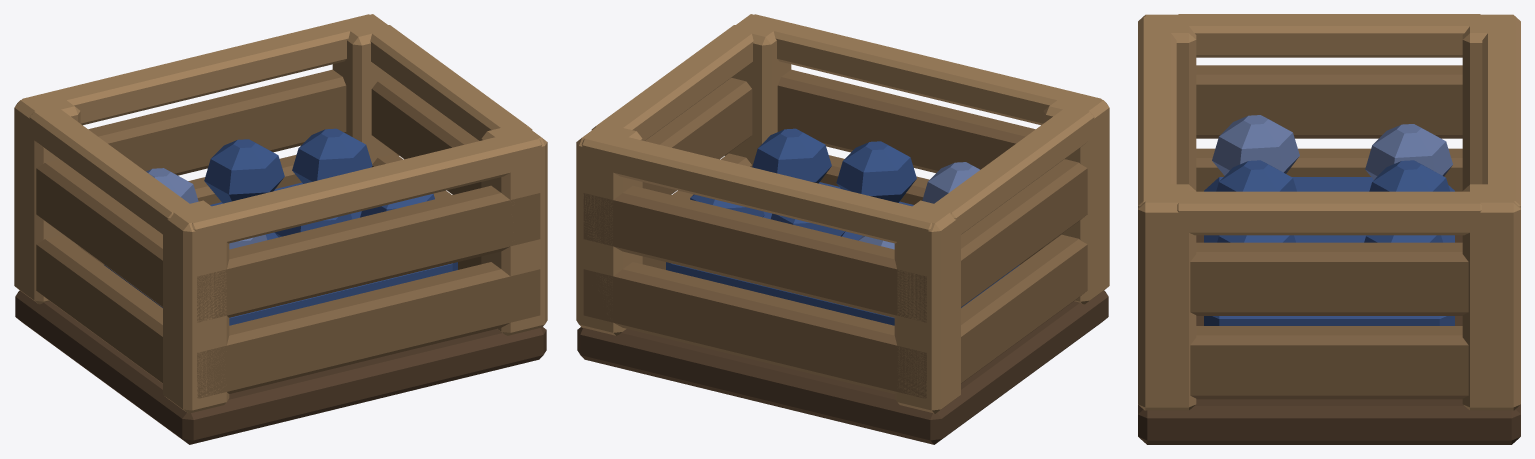
The model's file is blueberry_half.glb.
3 views of the same model, side by side, from view 1: azimuth 30°, elevation 25°; view 2: azimuth 150°, elevation 25°; view 3: azimuth 270°, elevation 25° (orthographic). The views are drawn at different scales.
Parts seen in each view (by area): view 1: blueberry_half; view 2: blueberry_half; view 3: blueberry_half.
Boxes of the visible parts, box(x1,y1,x2,y2) form: blueberry_half: box(14, 14, 547, 444); blueberry_half: box(576, 14, 1109, 444); blueberry_half: box(1138, 14, 1520, 444).
Bounding box in the file's own units: 0.75 × 0.4375 × 0.625.
